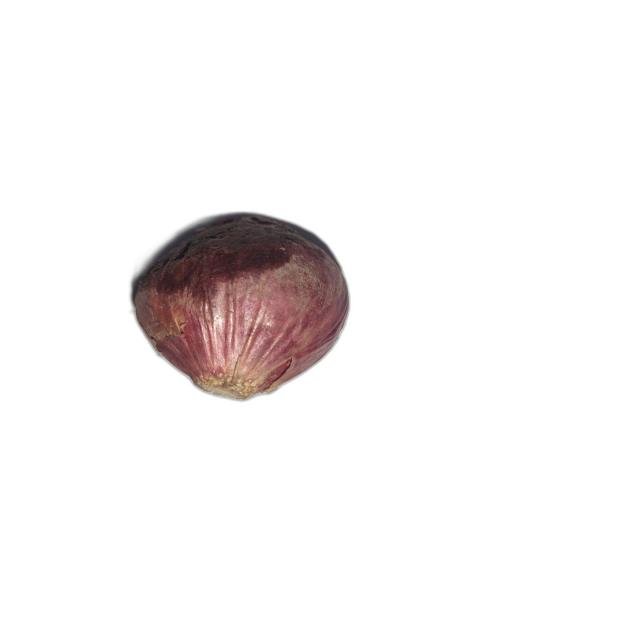onion: (134, 217, 350, 400)
